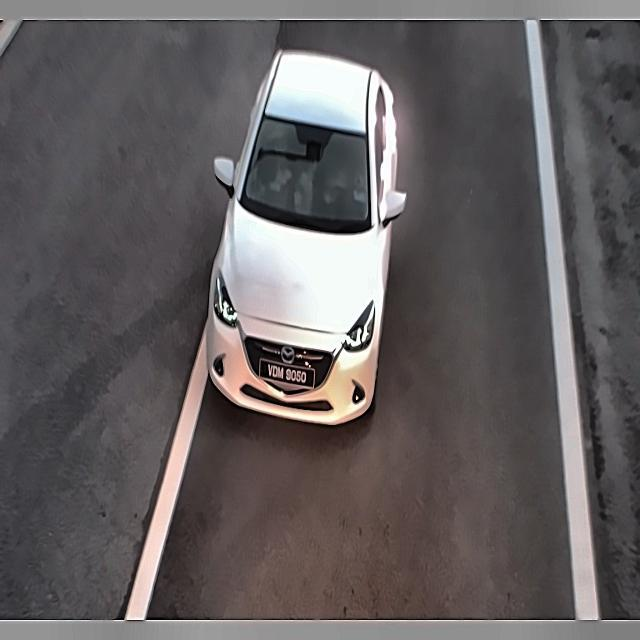car: (255, 356, 325, 392)
